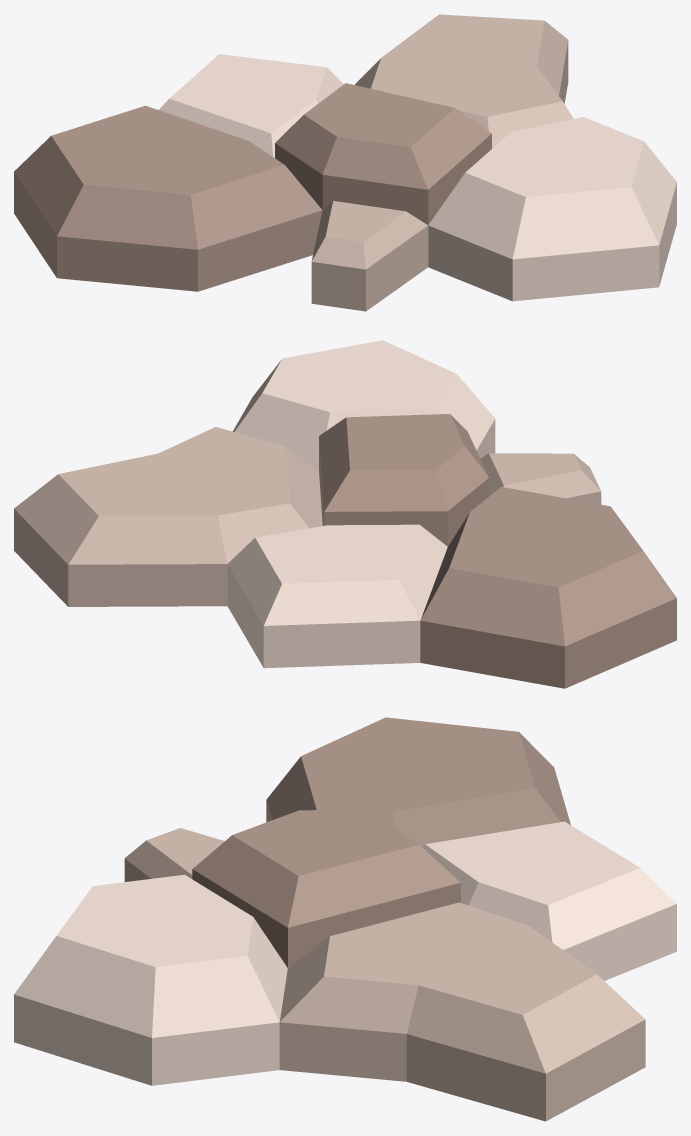
File: rock-type4-02-sand.glb
3 views of the same model, one above another, from view 1: azimuth 30°, elevation 25°; view 2: azimuth 150°, elevation 25°; view 3: azimuth 270°, elevation 25° (orthographic). The views are drawn at different scales.
Parts seen in each view (by area): view 1: Rock_Type4_02_mesh; view 2: Rock_Type4_02_mesh; view 3: Rock_Type4_02_mesh.
Part boxes in pixels (left/top/right/bottom): Rock_Type4_02_mesh: left=14, top=14, right=676, bottom=311; Rock_Type4_02_mesh: left=14, top=340, right=676, bottom=688; Rock_Type4_02_mesh: left=14, top=717, right=676, bottom=1121.
Size of the model in its own units: 3.03 by 0.53 by 2.61.
1 material, 1 textured.
